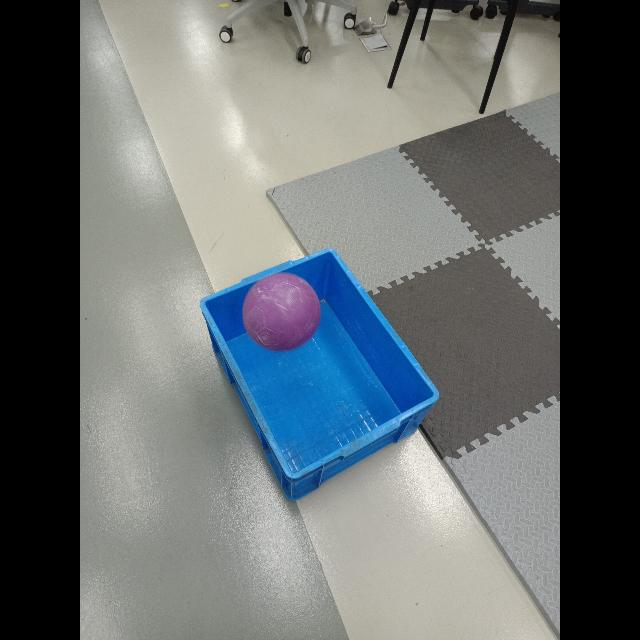P: (243, 273, 321, 351)
